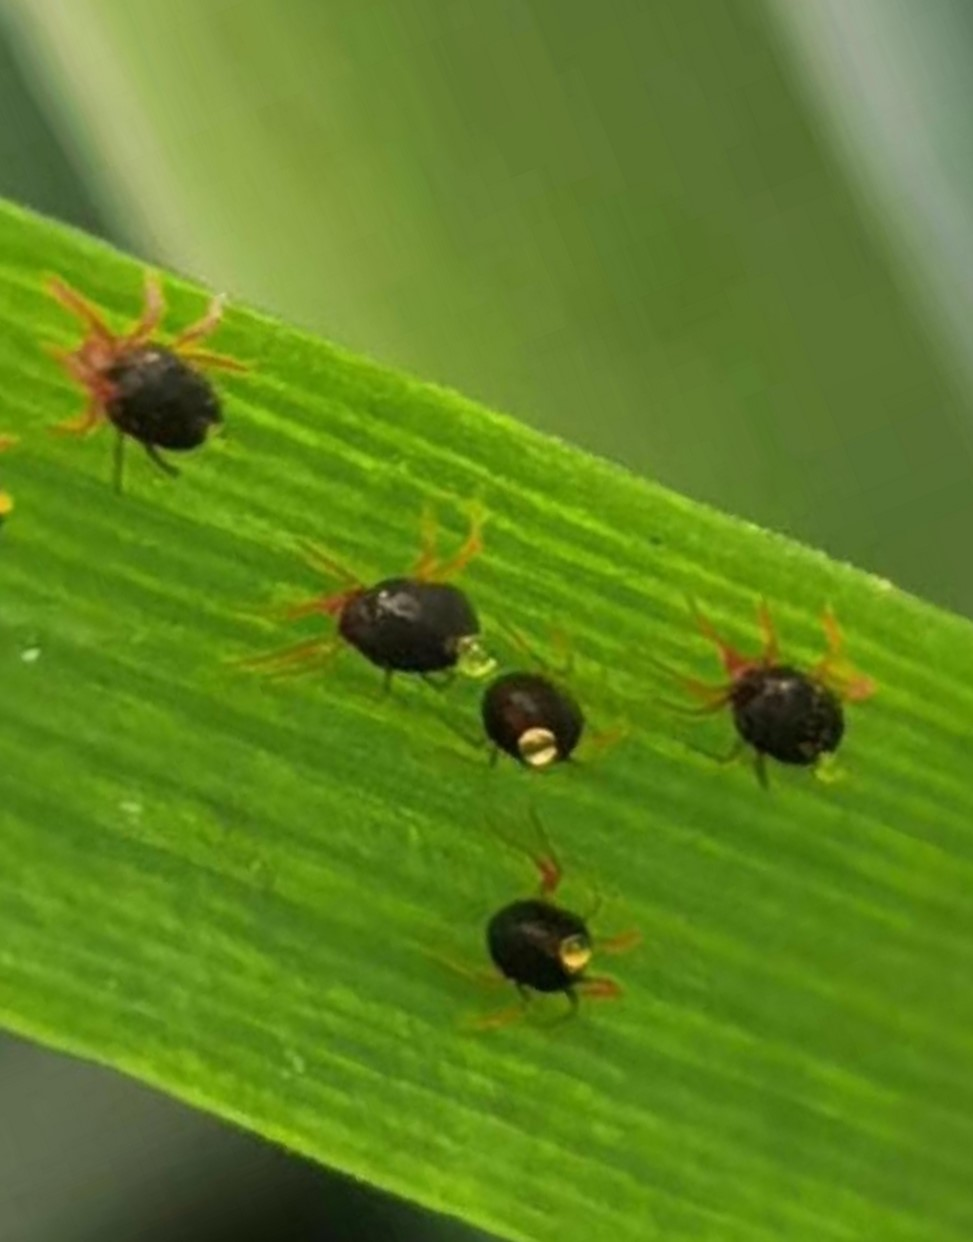Wheat Red Spider: (639, 566, 880, 810), (440, 827, 688, 1058), (20, 250, 267, 476)
